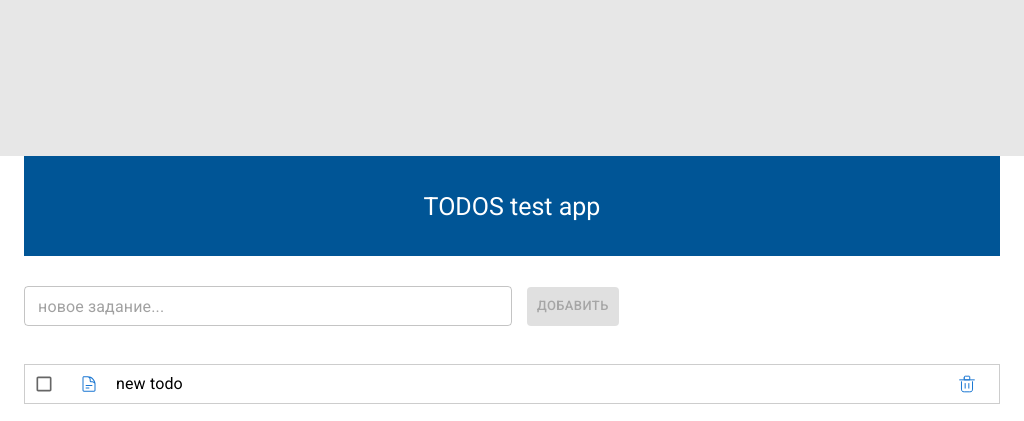
Todos list tests › Клик на чек бокс выполнено/не выполнено
(page scrolled)
Expected: the number of list items is 1, top-left (24, 364), bottom-right (1000, 404)
Expected: the 2nd button is enabled, top-left (62, 365), bottom-right (116, 403)
Click the checkbox.
click(44, 384)  # box top-left (34, 374), bottom-right (54, 394)
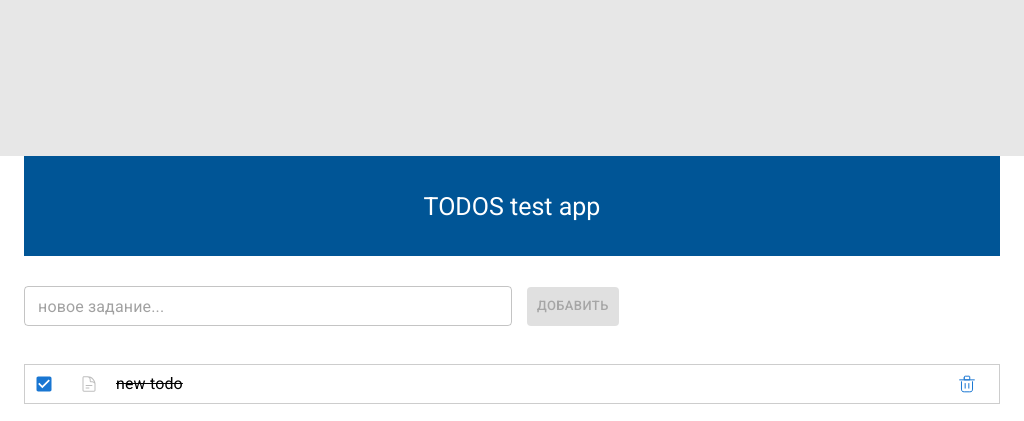
Now the checkbox is checked, box top-left (34, 374), bottom-right (54, 394)
Now the 2nd button is disabled, box top-left (62, 365), bottom-right (116, 403)
